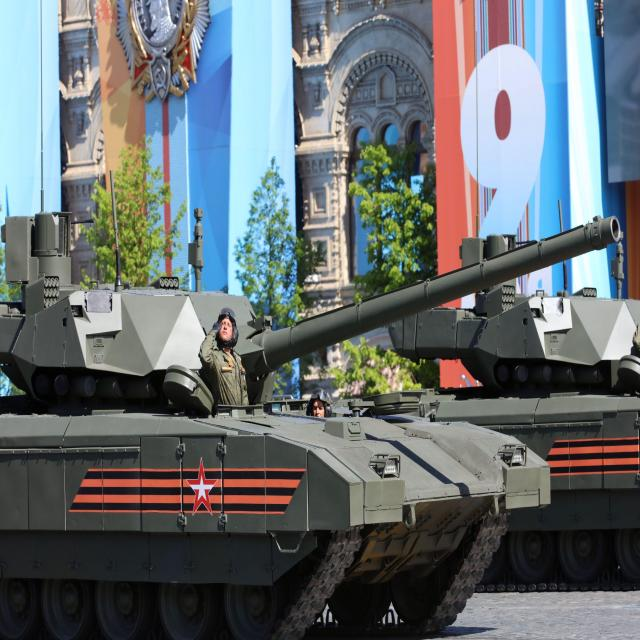Tanks: (4, 180, 627, 625)
